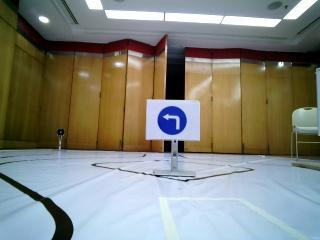left: (140, 98, 201, 140)
